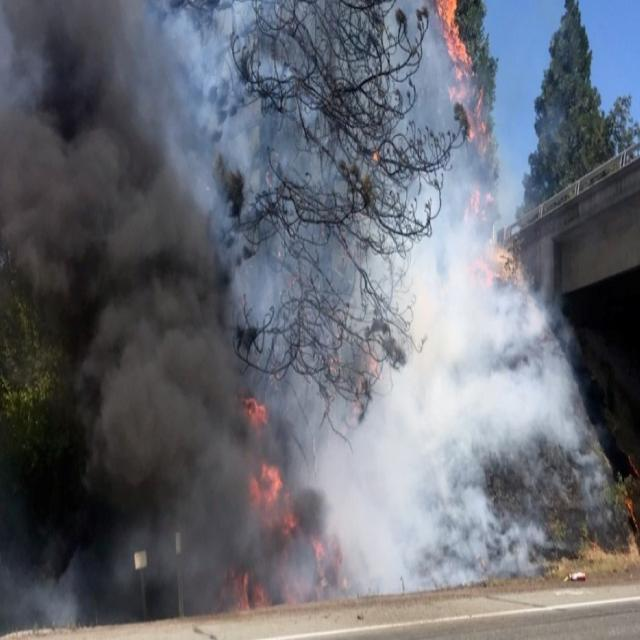Fire: (429, 0, 492, 170), (246, 459, 304, 541), (213, 562, 273, 606), (239, 394, 274, 432)
Smoke: (155, 0, 635, 601), (0, 0, 351, 614)
